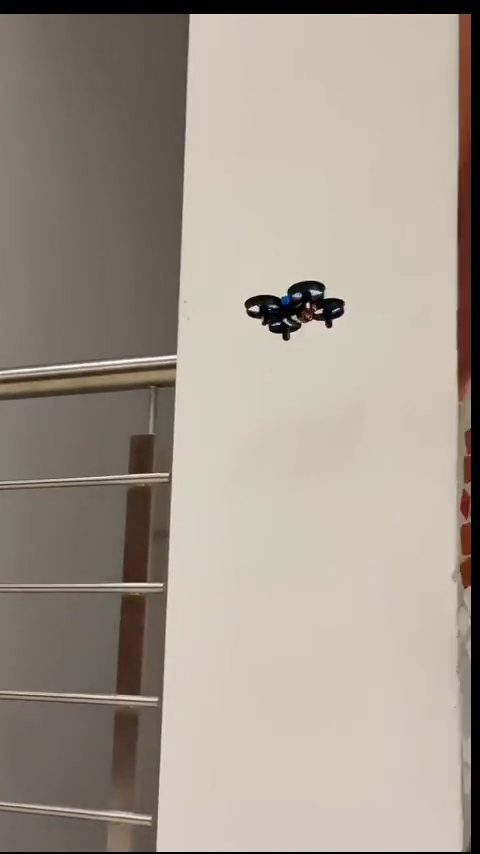drone: (244, 283, 343, 338)
